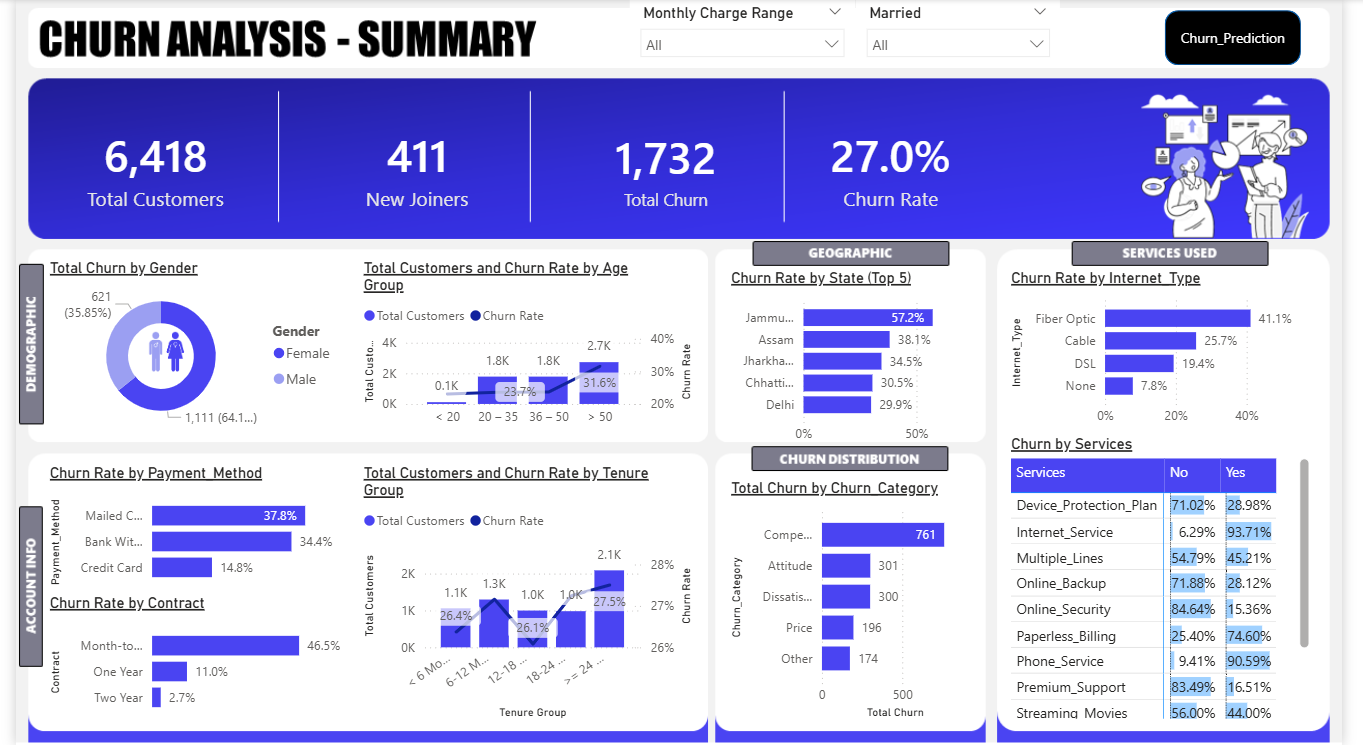

Layout of this report page (visuals, bound fields, positions):
{"tool":"powerbi","page":{"name":"Summary","canvas":[1280,720],"ordinal":0},"visuals":[{"type":"image","box":[117,314.9,56.7,49.5],"z":0},{"type":"cardVisual","fields":{"Data":["tbl_Measures.Total Customers"]},"box":[27.7,97.7,214.7,130.3],"z":1000},{"type":"cardVisual","fields":{"Data":["tbl_Measures.New Joiners"]},"box":[278.7,97.7,217.2,130.3],"z":2000},{"type":"cardVisual","fields":{"Data":["tbl_Measures.Total Churn"]},"box":[518.8,97.7,217.2,130.3],"z":3000},{"type":"donutChart","fields":{"Category":["prod_Churn.Gender"],"Y":["tbl_Measures.Total Churn"]},"box":[27.7,250.9,290.8,170.1],"z":4000},{"type":"cardVisual","fields":{"Data":["tbl_Measures.Churn Rate"]},"box":[735.9,97.7,217.2,130.3],"z":5000},{"type":"lineStackedColumnComboChart","fields":{"Category":["mapping_AgeGrp.Age Group"],"Y":["tbl_Measures.Total Customers"],"Y2":["tbl_Measures.Churn Rate"]},"box":[330.6,250.9,328.2,170.1],"z":6000},{"type":"clusteredBarChart","fields":{"Category":["prod_Churn.Payment_Method"],"Y":["tbl_Measures.Churn Rate"]},"box":[27.7,448.8,290.8,125.5],"z":7000},{"type":"clusteredBarChart","fields":{"Category":["prod_Churn.Contract"],"Y":["tbl_Measures.Churn Rate"]},"box":[27.7,574.3,290.8,125.5],"z":8000},{"type":"lineStackedColumnComboChart","fields":{"Category":["mapping_TenureGrp.Tenure Group"],"Y":["tbl_Measures.Total Customers"],"Y2":["tbl_Measures.Churn Rate"]},"box":[330.6,448.8,328.2,250.9],"z":9000},{"type":"clusteredBarChart","title":"Churn Rate by State (Top 5) ","fields":{"Category":["prod_Churn.State"],"Y":["tbl_Measures.Churn Rate"]},"box":[685.3,260.6,249.7,177.3],"z":10000},{"type":"clusteredBarChart","fields":{"Category":["prod_Churn.Churn_Category"],"Y":["tbl_Measures.Total Churn"]},"box":[685.3,463.3,249.7,236.5],"z":11000},{"type":"clusteredBarChart","fields":{"Category":["prod_Churn.Internet_Type"],"Y":["tbl_Measures.Churn Rate"]},"box":[955.9,260.5,297.4,160],"z":12000},{"type":"pivotTable","title":"Churn by Services","fields":{"Rows":["prod_services.Services"],"Columns":["prod_services.Status"],"Values":["Sum(prod_services.Churn Status)"]},"box":[955.9,420.5,297.4,279],"z":13000},{"type":"slicer","fields":{"Values":["prod_Churn.Monthly Charge Status"]},"box":[592.8,0,217.4,65.6],"z":14000},{"type":"slicer","fields":{"Values":["prod_Churn.Married"]},"box":[810.3,0,196.9,65.6],"z":15000},{"type":"shape","box":[1108.7,10.9,131.5,53.1],"z":15001}]}

Visuals, with their boxes in screenshot pixels (x1, y1, x2, y2), scaled from the page's 1280x720 canvas onto the 1363x745 screenshot:
image: bbox=[125, 326, 185, 377]
cardVisual - tbl_Measures.Total Customers: bbox=[29, 101, 258, 236]
cardVisual - tbl_Measures.New Joiners: bbox=[297, 101, 528, 236]
cardVisual - tbl_Measures.Total Churn: bbox=[552, 101, 784, 236]
donutChart - prod_Churn.Gender x tbl_Measures.Total Churn: bbox=[29, 260, 339, 436]
cardVisual - tbl_Measures.Churn Rate: bbox=[784, 101, 1015, 236]
lineStackedColumnComboChart - mapping_AgeGrp.Age Group x tbl_Measures.Total Customers: bbox=[352, 260, 702, 436]
clusteredBarChart - prod_Churn.Payment_Method x tbl_Measures.Churn Rate: bbox=[29, 464, 339, 594]
clusteredBarChart - prod_Churn.Contract x tbl_Measures.Churn Rate: bbox=[29, 594, 339, 724]
lineStackedColumnComboChart - mapping_TenureGrp.Tenure Group x tbl_Measures.Total Customers: bbox=[352, 464, 702, 724]
"Churn Rate by State (Top 5) " clusteredBarChart: bbox=[730, 270, 996, 453]
clusteredBarChart - prod_Churn.Churn_Category x tbl_Measures.Total Churn: bbox=[730, 479, 996, 724]
clusteredBarChart - prod_Churn.Internet_Type x tbl_Measures.Churn Rate: bbox=[1018, 270, 1335, 435]
"Churn by Services" pivotTable: bbox=[1018, 435, 1335, 724]
slicer - prod_Churn.Monthly Charge Status: bbox=[631, 0, 863, 68]
slicer - prod_Churn.Married: bbox=[863, 0, 1073, 68]
shape: bbox=[1181, 11, 1321, 66]
